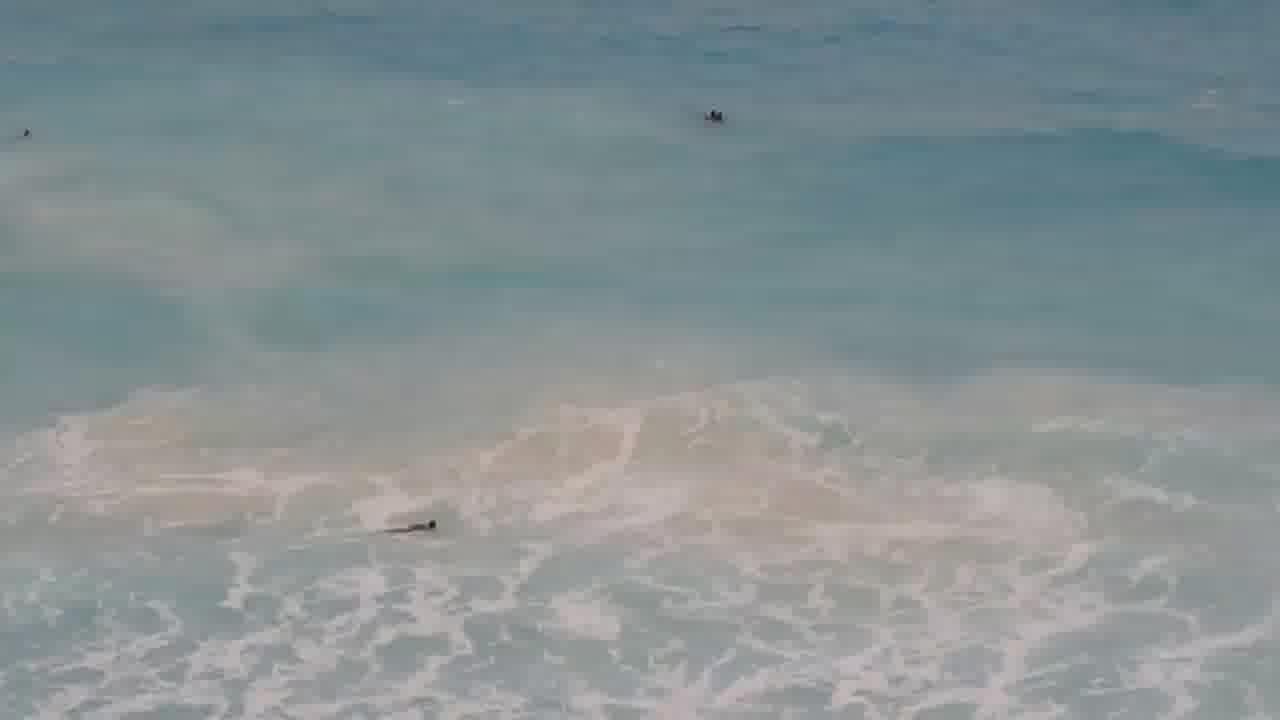swimmer: (374, 510, 450, 546), (694, 95, 735, 136), (8, 117, 47, 150)
